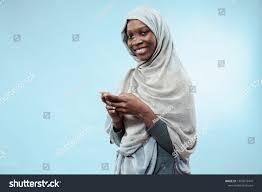No Mask: (119, 17, 168, 72)
